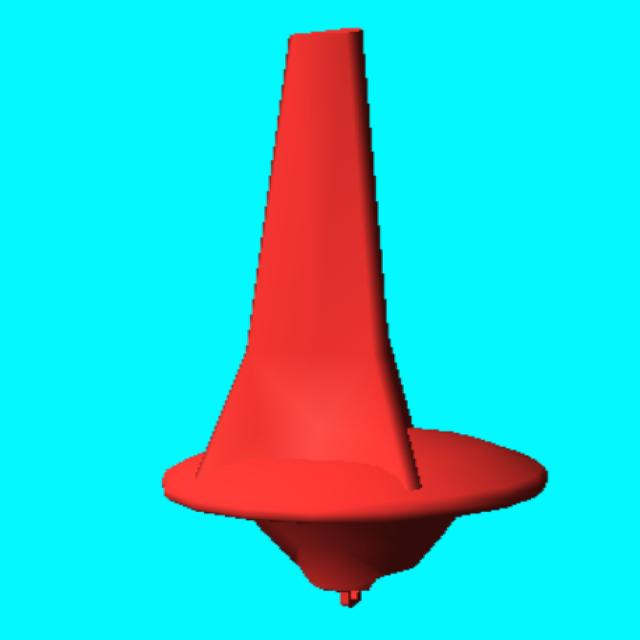RedBuoy: (162, 29, 547, 606)
